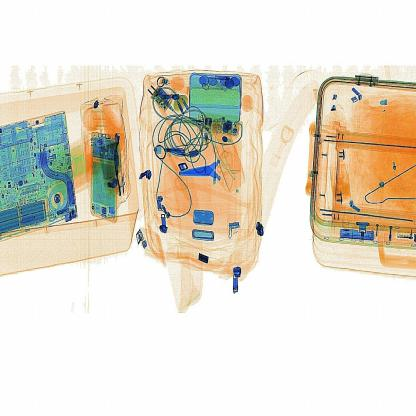gun: (176, 140, 246, 197)
